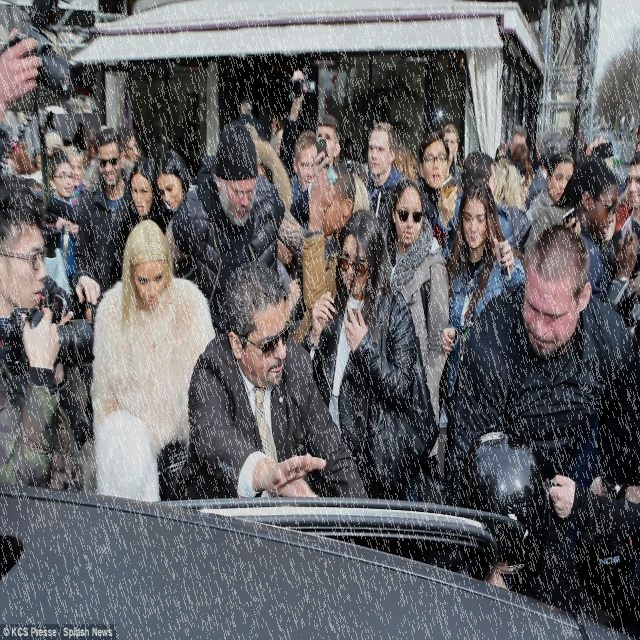pessoa: (446, 222, 638, 618), (184, 258, 369, 503), (448, 429, 640, 639), (296, 206, 421, 504), (90, 216, 219, 502), (0, 180, 95, 497), (163, 119, 287, 341), (378, 177, 452, 460), (574, 126, 639, 431), (440, 177, 527, 399), (288, 162, 359, 346), (564, 156, 640, 316), (103, 156, 176, 292), (74, 125, 140, 269), (278, 68, 342, 180), (412, 127, 466, 254), (512, 165, 574, 275), (394, 112, 470, 194), (452, 150, 514, 244), (359, 121, 406, 232), (32, 199, 72, 321), (522, 129, 571, 212), (232, 92, 289, 158), (524, 150, 576, 222), (44, 148, 90, 228), (156, 146, 200, 212), (286, 129, 321, 201), (491, 119, 542, 167), (340, 118, 370, 183)
